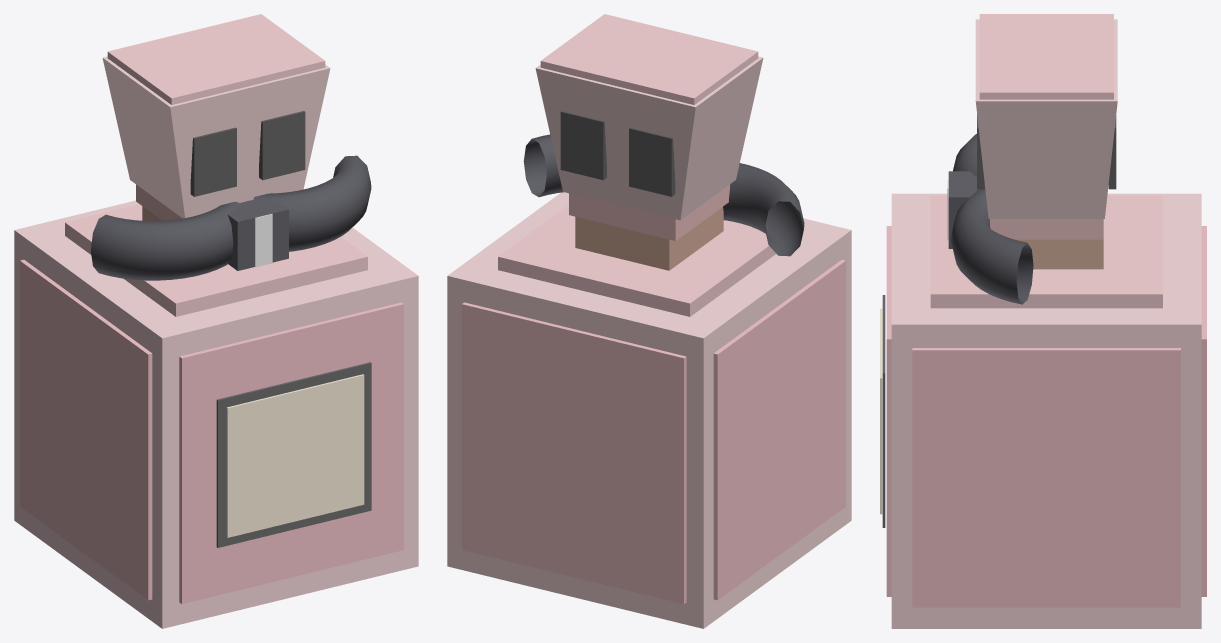
Rendered from dynie_bottle.glb.
3 renders of one model, left to right at view 1: azimuth 30°, elevation 25°; view 2: azimuth 150°, elevation 25°; view 3: azimuth 270°, elevation 25°, orthographic. The views are drawn at different scales.
Parts seen in each view (by area): view 1: BottleBody, LeftPanel, FrontPanel, LabelInner, CapBody, CapTop, BottleShoulder, BowLoopLeft, BowLoopRight, LabelBorder, BowKnot, CapFrontInsetRight (+3 smaller); view 2: BackPanel, BottleBody, LeftPanel, CapBody, BottleShoulder, CapTop, BowLoopLeft, BottleNeck, CapBase, CapBackInsetRight, CapBackInsetLeft, BowLoopRight; view 3: RightPanel, BottleBody, CapBody, BottleShoulder, CapTop, BowLoopRight, BottleNeck, CapBase, FrontPanel, BackPanel, BowKnot, LabelBorder (+2 smaller).
Part boxes in pixels (x1,y1,x2,y2): BottleBody: (14, 200, 418, 628); LeftPanel: (20, 259, 152, 600); FrontPanel: (179, 302, 403, 603); LabelInner: (226, 374, 364, 537); CapBody: (102, 56, 330, 218); CapTop: (107, 14, 325, 104); BottleShoulder: (65, 204, 367, 316); BowLoopLeft: (90, 201, 240, 280); BowLoopRight: (253, 155, 371, 251); LabelBorder: (216, 362, 371, 547); BowKnot: (227, 199, 288, 270); CapFrontInsetRight: (259, 111, 305, 180); BackPanel: (462, 302, 686, 603); BottleBody: (447, 192, 851, 628); LeftPanel: (713, 259, 845, 600); CapBody: (535, 56, 763, 220); BottleShoulder: (498, 205, 776, 316); CapTop: (540, 14, 758, 104); BowLoopLeft: (723, 163, 804, 256); BottleNeck: (575, 207, 723, 270); CapBase: (569, 184, 729, 240); CapBackInsetRight: (560, 111, 606, 180); CapBackInsetLeft: (629, 127, 675, 196); BowLoopRight: (523, 134, 563, 197); RightPanel: (912, 348, 1180, 607); BottleBody: (891, 193, 1201, 628); CapBody: (975, 19, 1117, 218); BottleShoulder: (930, 196, 1162, 308); CapTop: (979, 14, 1113, 99); BowLoopRight: (951, 186, 1033, 304); BottleNeck: (1015, 239, 1103, 269); CapBase: (990, 219, 1103, 239); FrontPanel: (886, 226, 891, 596); BackPanel: (1201, 226, 1206, 596); BowKnot: (948, 171, 984, 248); LabelBorder: (882, 295, 885, 527).
Size of the model in its own units: 1.31 by 2.18 by 1.26.
